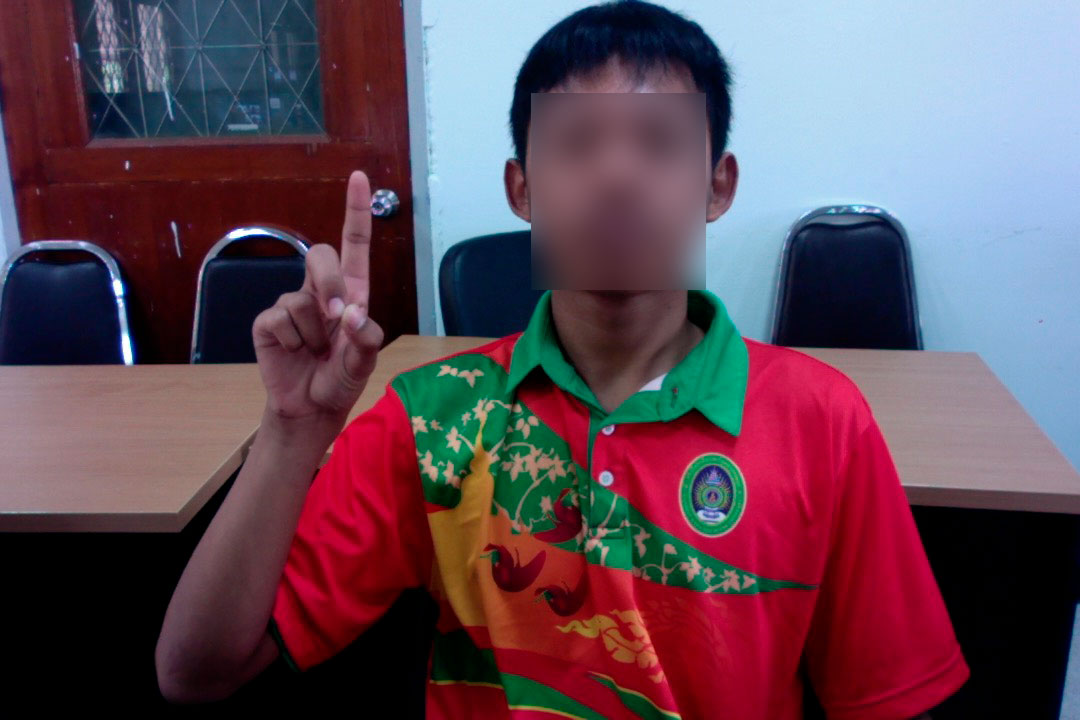dor: (241, 167, 394, 430)
